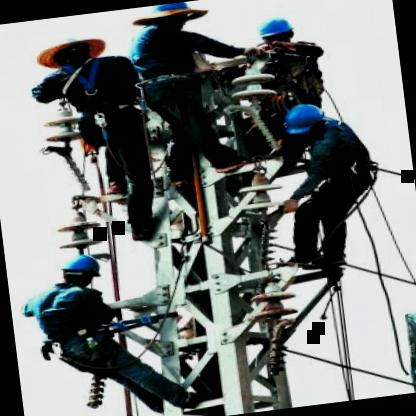helmet: (36, 30, 107, 72), (58, 252, 109, 291), (284, 100, 328, 142), (143, 0, 199, 32), (252, 12, 298, 49)
